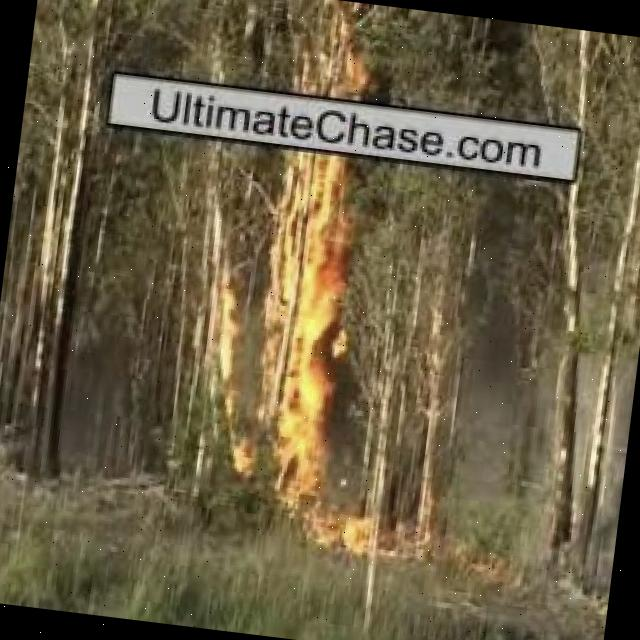fire: (174, 257, 445, 563), (259, 160, 370, 248), (310, 8, 380, 88)
